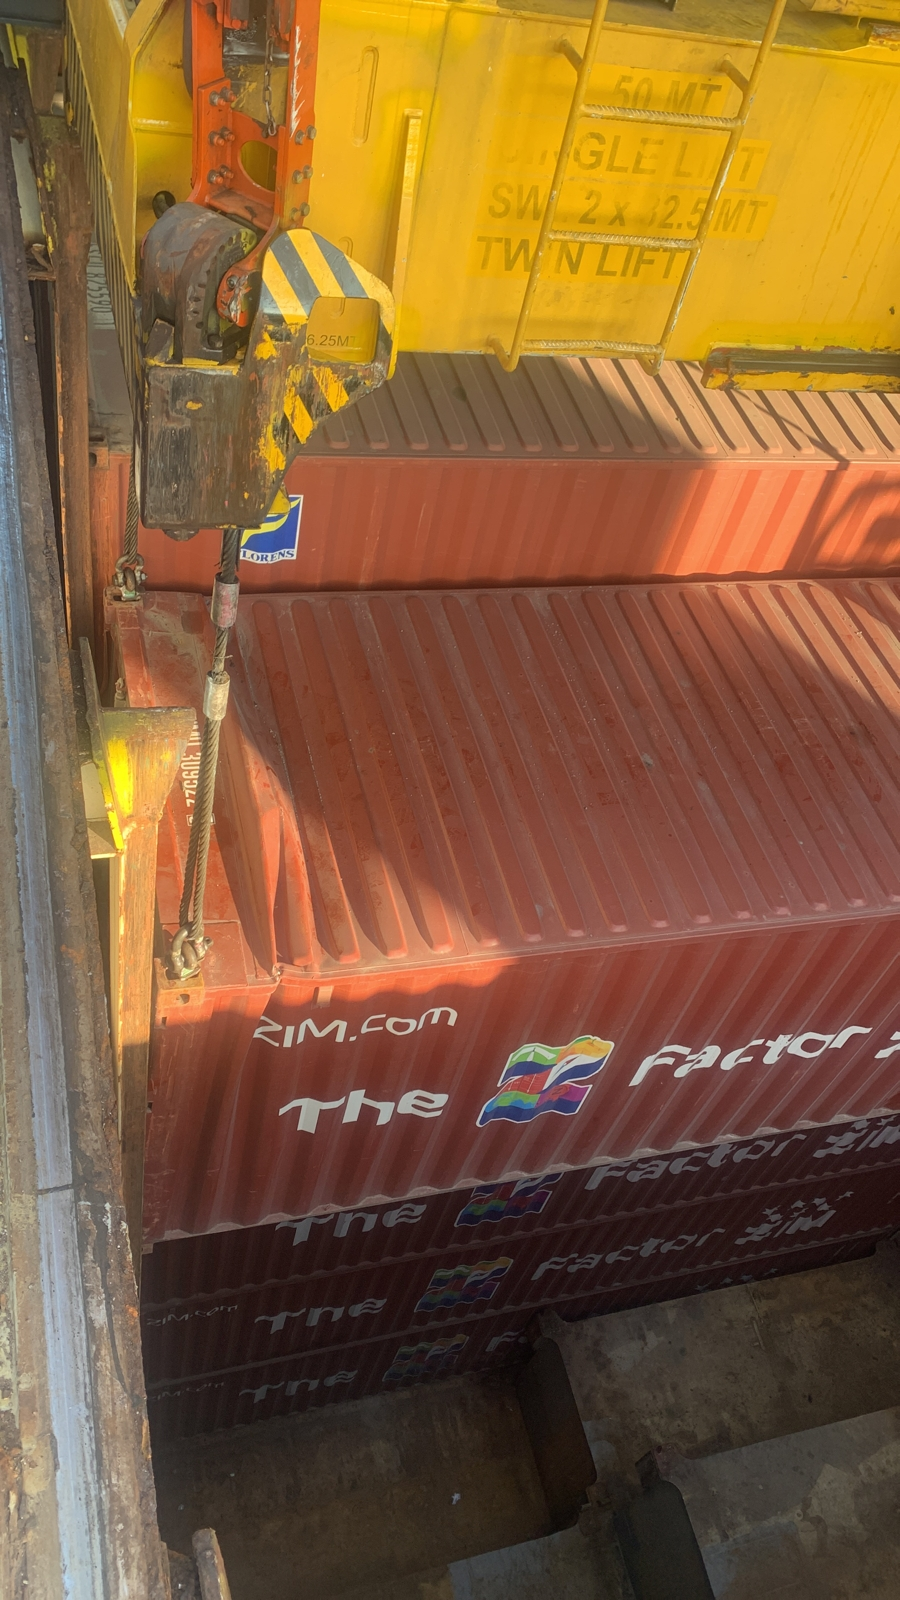bulged: (147, 681, 376, 996)
